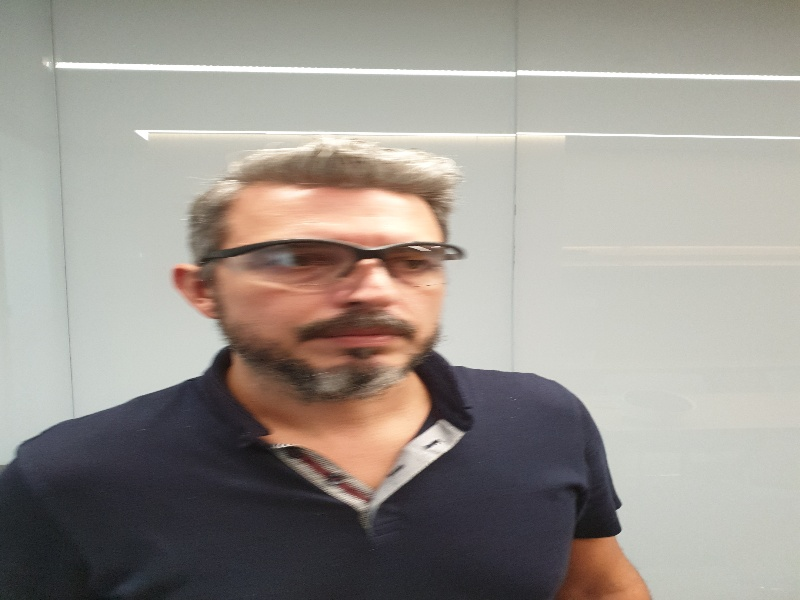Gozluk: (195, 240, 469, 292)
